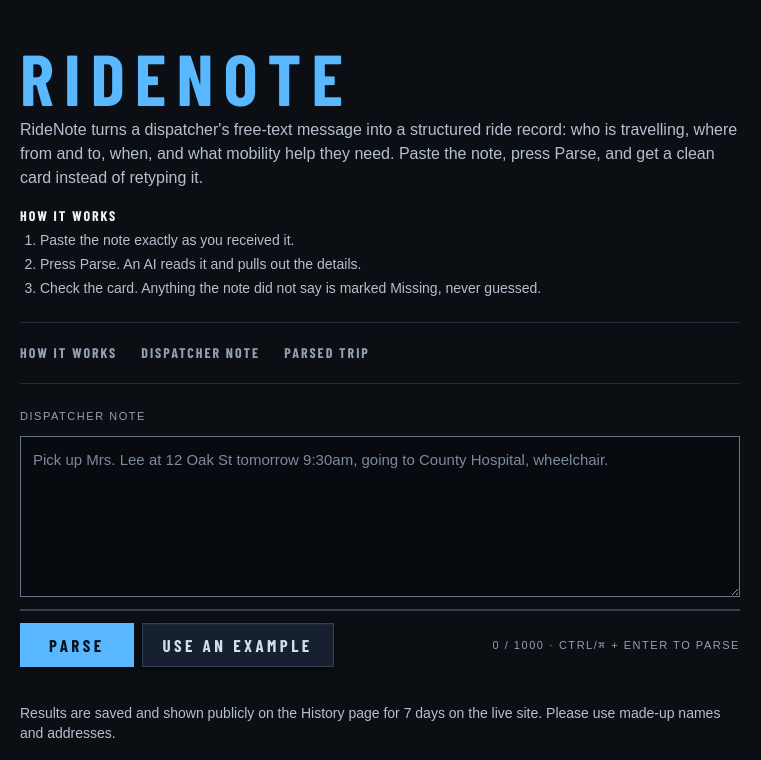
Test: Home page › shows the tokens and latency of the parse on the card
The image size is (761, 760).
Step 1. Type "Pick up Lee" into the text box labelled "Dispatcher note" → (380, 517), box [20, 436, 740, 597]
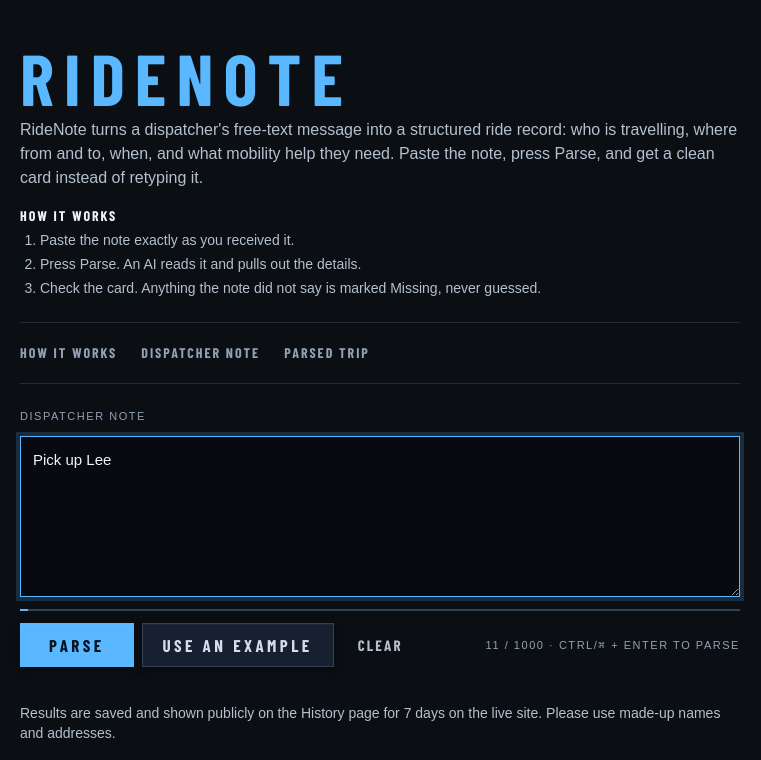
Step 2. Click the button "Parse" → (77, 645), box [20, 623, 134, 667]
(page scrolled)
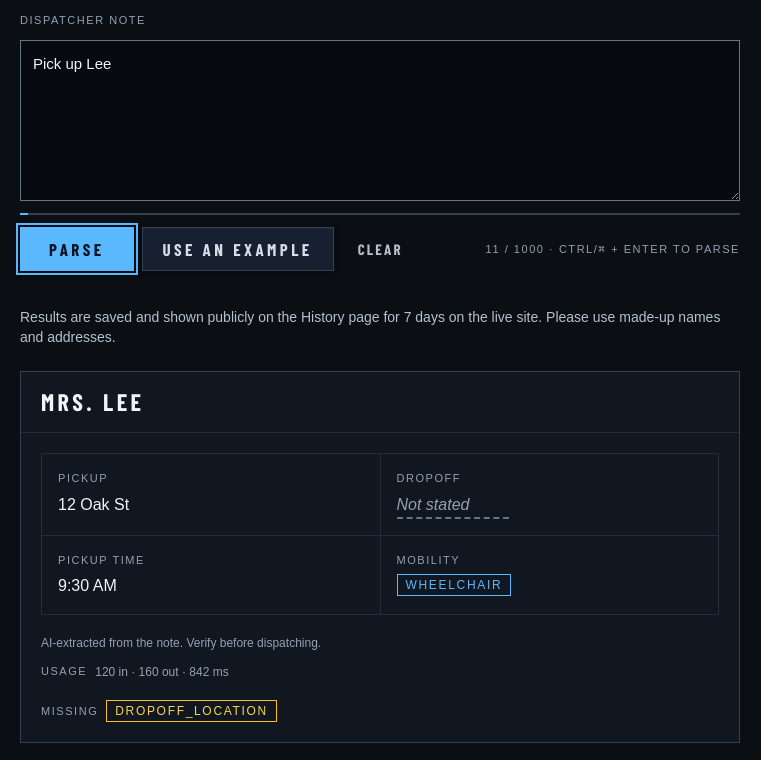
expect the text "120 in · 160 out · 842 ms" is shown: met, box [95, 664, 229, 680]
